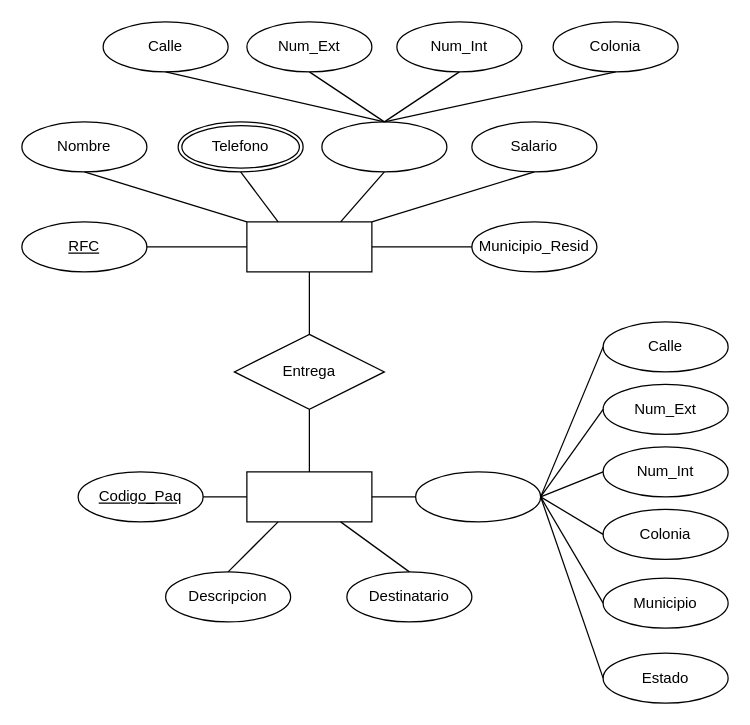
Image size: 750x725. Some labels were removed from this diagram. The shapes that lost their labels are listed below. From the top down, each one's centre as x and y in pixels, then its label:
pixel 384 146: Direccion
pixel 309 246: Camionero
pixel 309 496: Paquete
pixel 477 496: Dir_Dest
